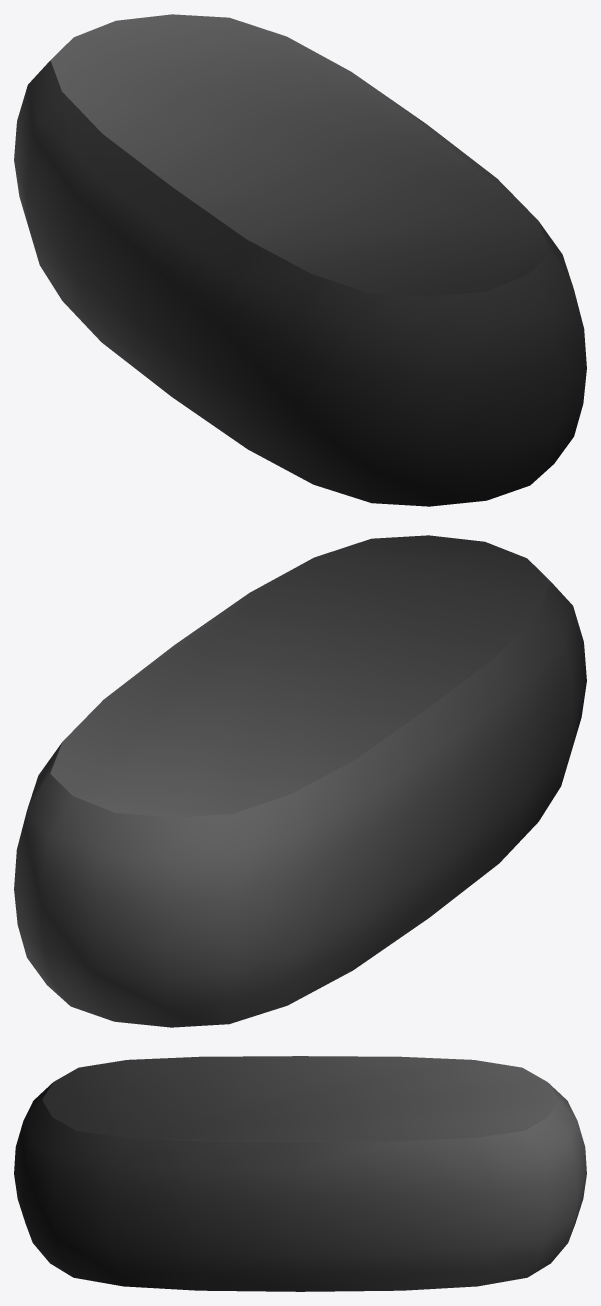
File: Bread_Tall Burn.fbx
The picture shows the model from 3 angles, top to bottom: view 1: azimuth 30°, elevation 25°; view 2: azimuth 150°, elevation 25°; view 3: azimuth 270°, elevation 25°; orthographic projection. The views are drawn at different scales.
Parts seen in each view (by area): view 1: Bread_Tall Burn; view 2: Bread_Tall Burn; view 3: Bread_Tall Burn.
Boxes of the visible parts, x1,y1,x2,y2 form: Bread_Tall Burn: (14,14,586,506); Bread_Tall Burn: (14,535,586,1027); Bread_Tall Burn: (14,1056,586,1291).
Size of the model in its own units: 0.089 by 0.0601 by 0.2078.
